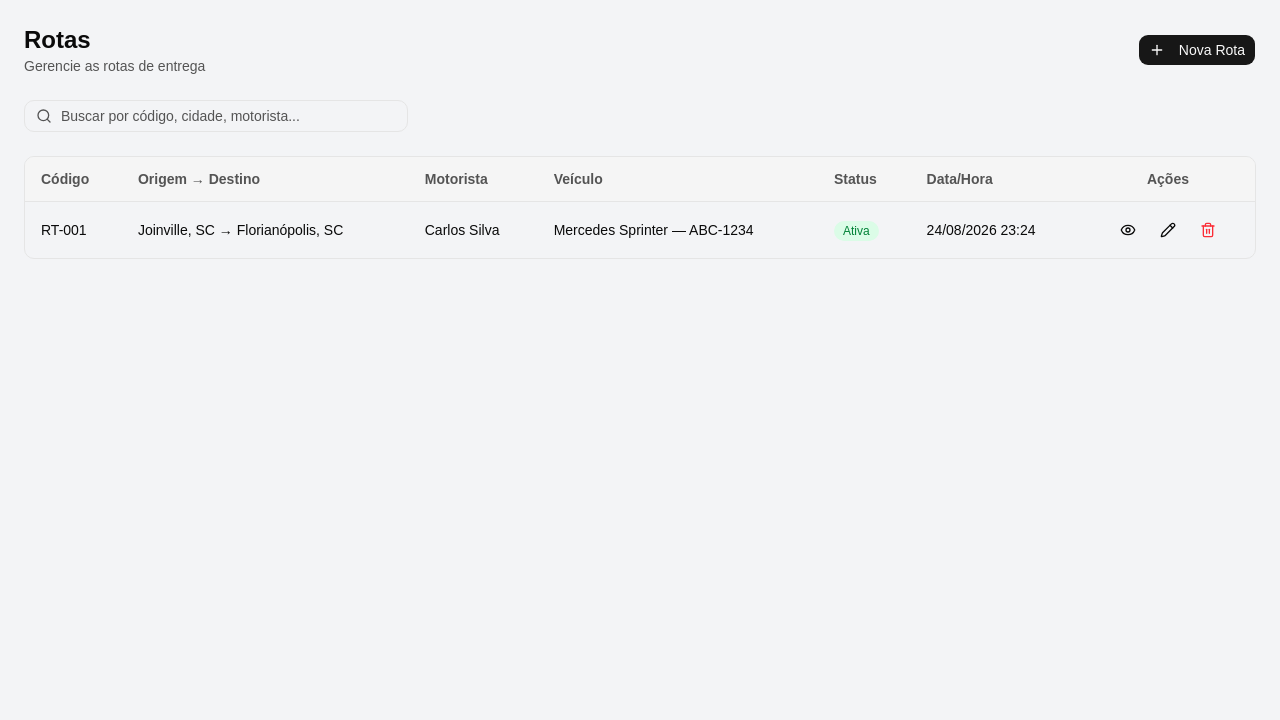
it: Rotas › exclui uma rota sem vínculos com sucesso
Expected: the text "RT-001" is shown, [25,202,122,258]
Click the button named "Excluir RT-001" at (1208, 230), box [1192,214,1224,246]
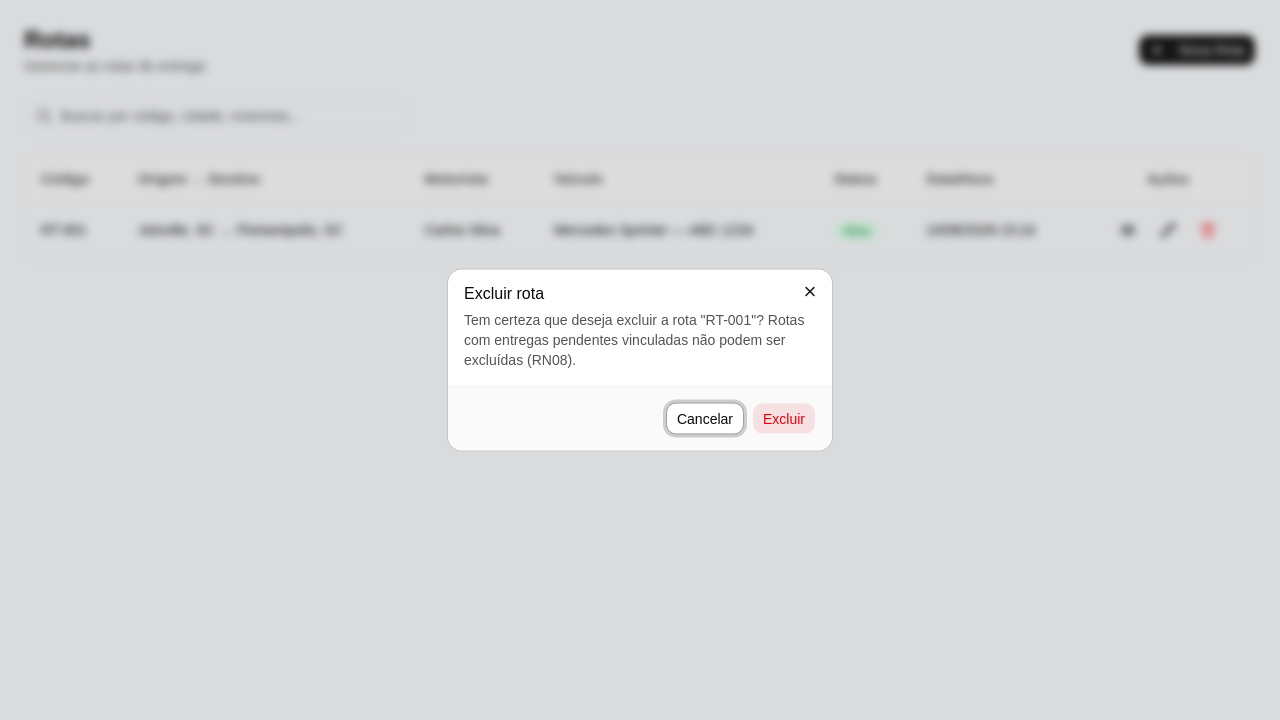
Click the button "Excluir" at (784, 418), box [752,402,816,434]
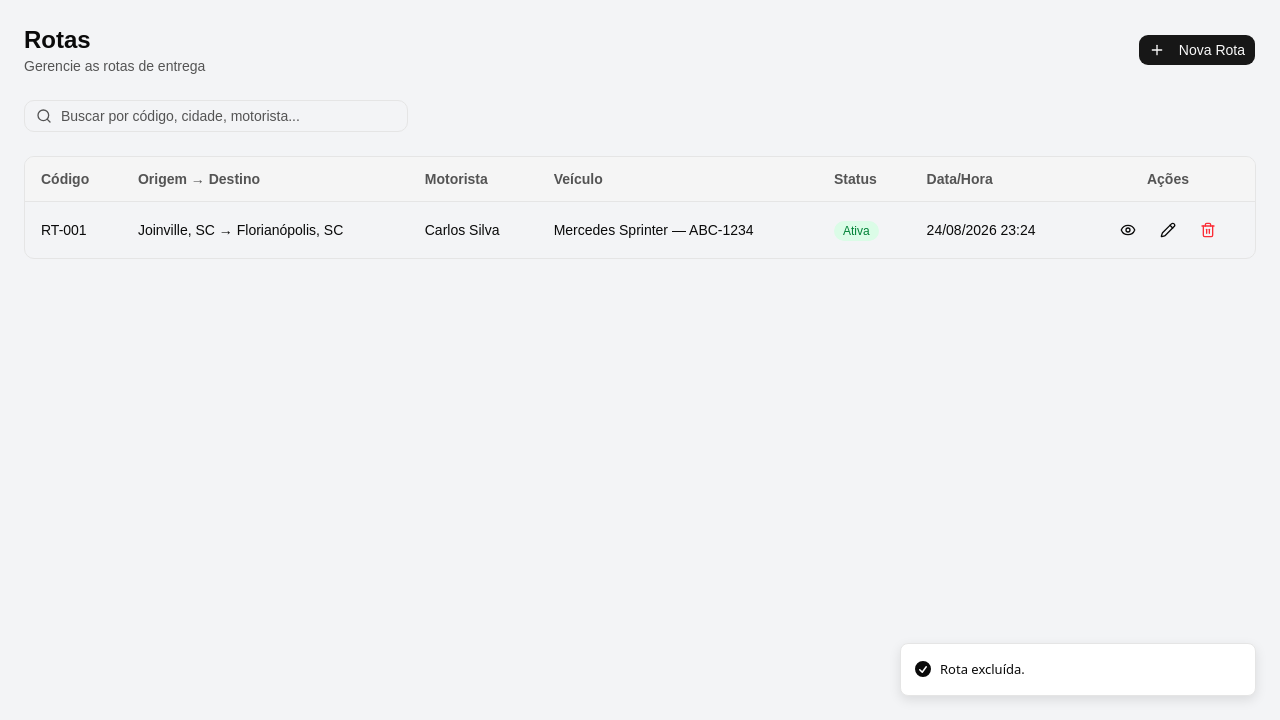
Expected: the text "Rota excluída." is shown, [940,660,1025,679]
